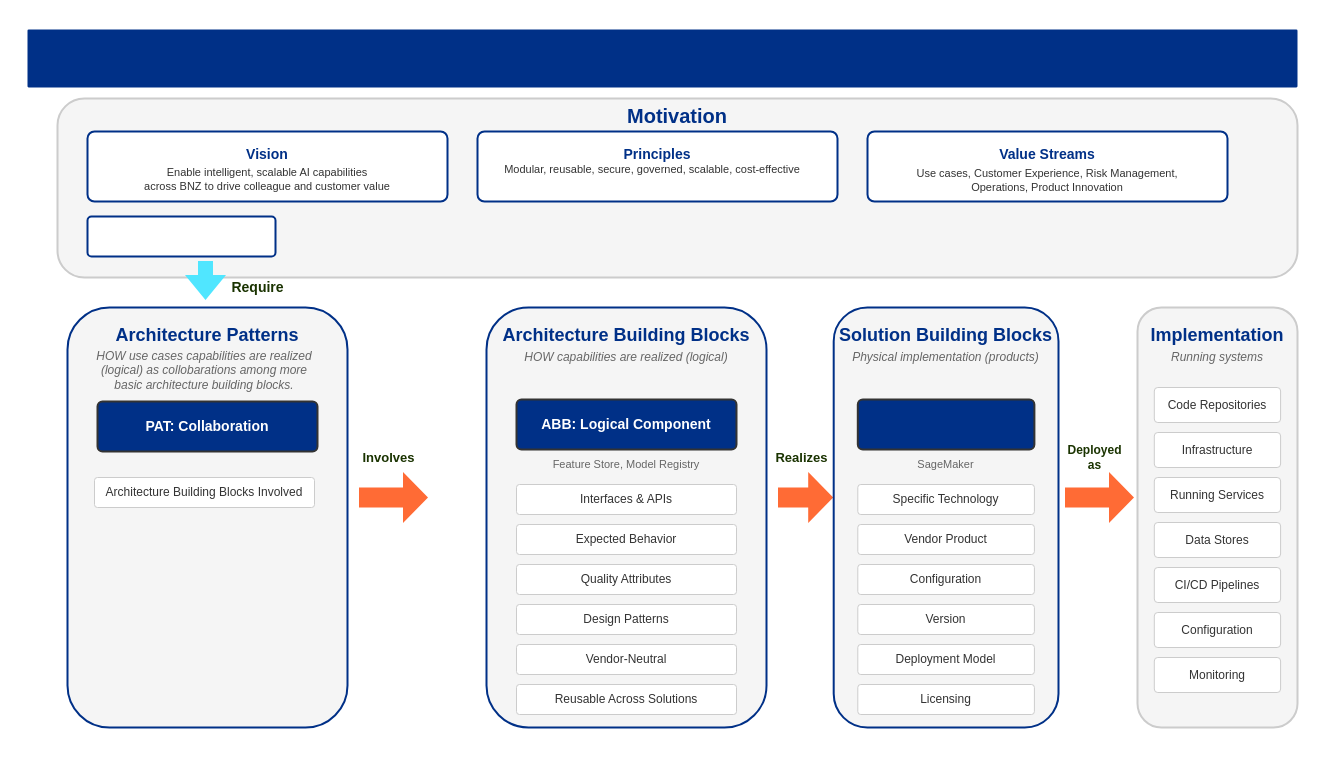
Some shapes in this 1334 by 784 pixel diagram are drawn without their labels. The shapes that lost their labels are listed below. From the top down, each one's centre as x and y in pixels, then its label:
(662,58): BNZ AI Platform - Architecture Definition Flow
(181,236): Use Cases
(945,424): SBB: Physical Product
